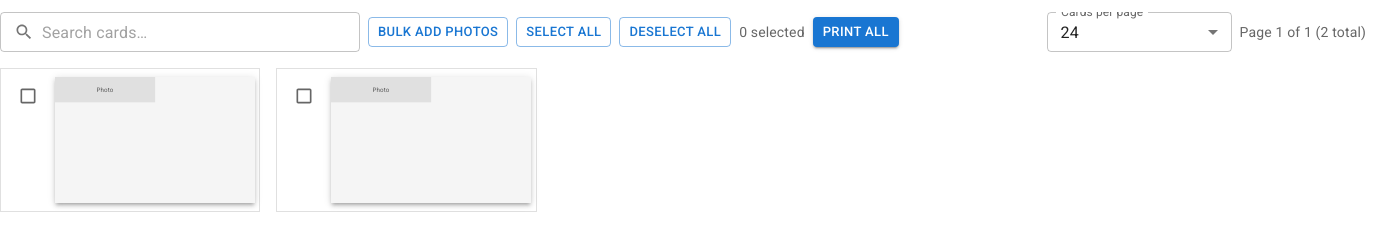
PreviewStep — selection › Select All selects every record
The width and height of the screenshot is (1378, 231).
Click the button "Select All" at (564, 32), box 516,17 -> 611,47
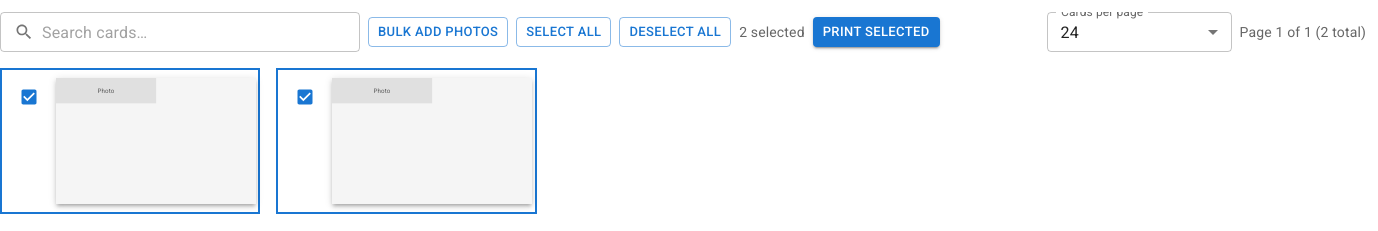
Check: the text "2 selected" is shown, box 739,22 -> 805,42
